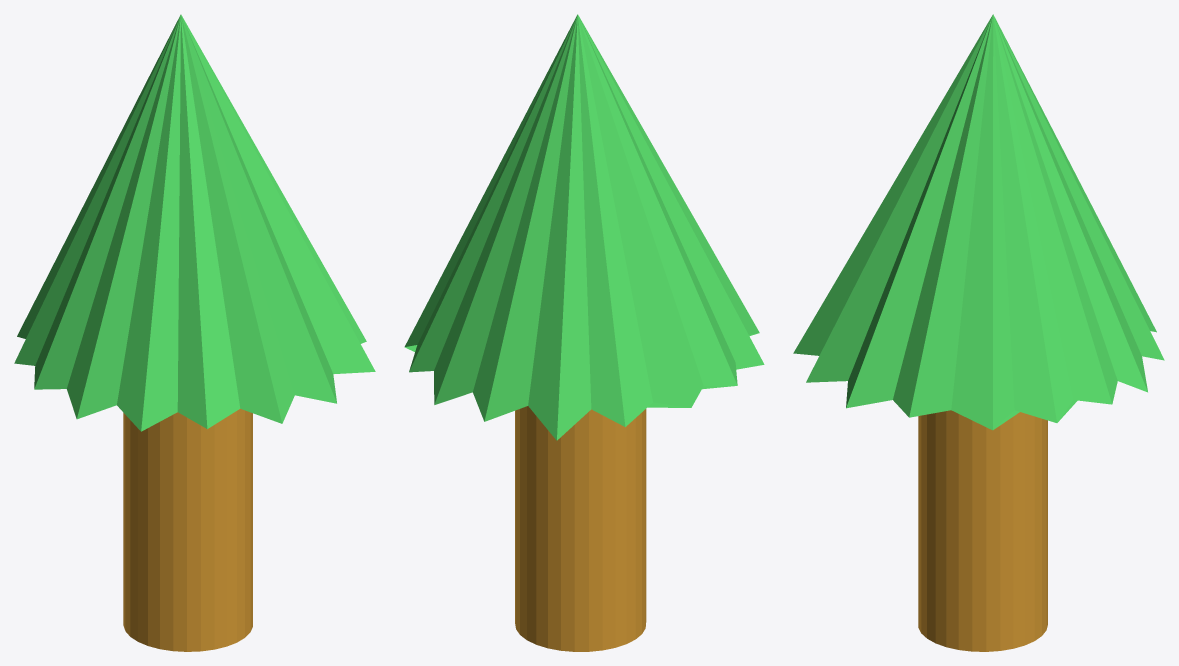
3 renders of one model, left to right at view 1: azimuth 30°, elevation 25°; view 2: azimuth 150°, elevation 25°; view 3: azimuth 270°, elevation 25°, orthographic.
Parts seen in each view (by area): view 1: 锥体, 柱体; view 2: 锥体, 柱体; view 3: 锥体, 柱体.
Boxes of the visible parts, x1,y1,x2,y2 form: 锥体: (14, 14, 375, 431); 柱体: (123, 408, 252, 651); 锥体: (404, 14, 764, 440); 柱体: (515, 406, 646, 651); 锥体: (793, 14, 1164, 430); 柱体: (918, 410, 1047, 651).
Bounding box in the file's own units: 329 × 630 × 348.
